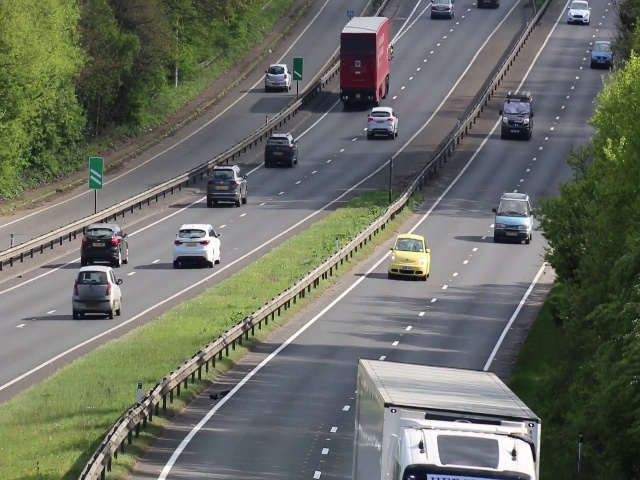car: (339, 18, 391, 105), (71, 267, 122, 322), (387, 231, 434, 282), (175, 223, 222, 269), (79, 225, 129, 267), (493, 188, 532, 240), (204, 165, 248, 208), (499, 98, 532, 140), (264, 131, 298, 170), (368, 105, 399, 137), (265, 60, 292, 92), (568, 1, 591, 26), (593, 42, 611, 68)
